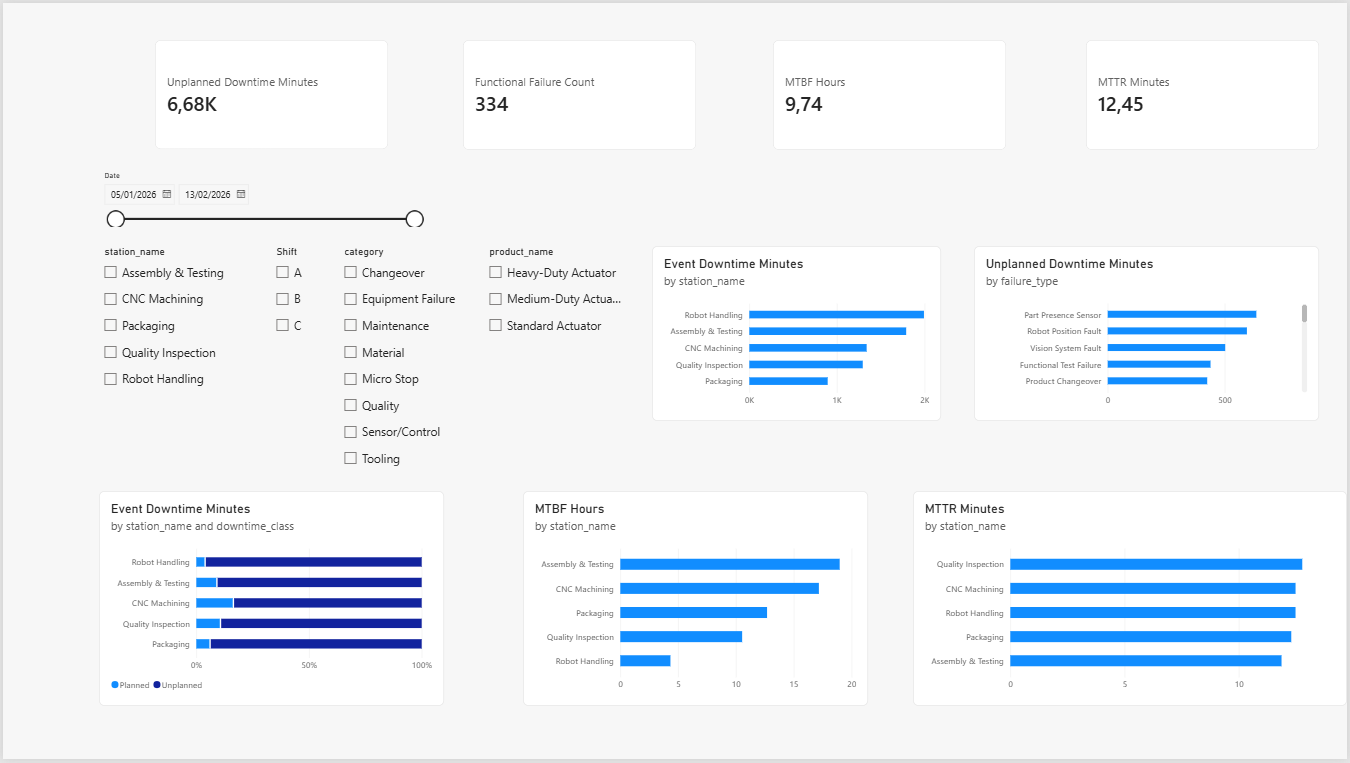

This screenshot's page, from the dashboard's own definition file:
{"tool":"powerbi","page":{"name":"Downtime & Reliability","canvas":[1920,1080],"ordinal":2},"visuals":[{"type":"clusteredBarChart","fields":{"Category":["DimMachine.station_name"],"Y":["FactProduction.Event Downtime Minutes"]},"box":[926.7,346.7,413.3,250],"z":0},{"type":"hundredPercentStackedBarChart","fields":{"Category":["DimMachine.station_name"],"Series":["FactDowntime.downtime_class"],"Y":["FactProduction.Event Downtime Minutes"]},"box":[136.7,696.7,493,307],"z":1000},{"type":"clusteredBarChart","fields":{"Category":["FactDowntime.failure_type"],"Y":["FactProduction.Unplanned Downtime Minutes"]},"box":[1386.7,346.7,493.3,250],"z":2000},{"type":"clusteredBarChart","fields":{"Category":["DimMachine.station_name"],"Y":["FactProduction.MTBF Hours"]},"box":[743.3,696.7,493.3,306.7],"z":3000},{"type":"clusteredBarChart","fields":{"Category":["DimMachine.station_name"],"Y":["FactProduction.MTTR Minutes"]},"box":[1300,696.7,620,306.7],"z":4000},{"type":"cardVisual","fields":{"Data":["FactProduction.Unplanned Downtime Minutes"]},"box":[216.7,53.3,333.3,156.7],"z":5000},{"type":"cardVisual","fields":{"Data":["FactProduction.Functional Failure Count"]},"box":[656.7,53.3,333,157],"z":6000},{"type":"cardVisual","fields":{"Data":["FactProduction.MTBF Hours"]},"box":[1100,53.3,333,157],"z":7000},{"type":"cardVisual","fields":{"Data":["FactProduction.MTTR Minutes"]},"box":[1546.7,53.3,333,157],"z":8000},{"type":"slicer","fields":{"Values":["DimDate.Date"]},"box":[136.7,240,466.7,80],"z":9000},{"type":"slicer","fields":{"Values":["DimMachine.station_name"]},"box":[136.7,346.7,210,223.3],"z":10000},{"type":"slicer","fields":{"Values":["DimShift.Shift"]},"box":[383.3,346.7,96.7,156.7],"z":11000},{"type":"slicer","fields":{"Values":["FactDowntime.category"]},"box":[480,346.7,166.7,350],"z":12000},{"type":"slicer","fields":{"Values":["DimProduct.product_name"]},"box":[686.7,346.7,196.7,156.7],"z":13000}]}

Visuals, with their boxes in screenshot pixels (x1, y1, x2, y2), scaled from the page's 1920x1080 canvas onto the 1350x763 screenshot:
clusteredBarChart - DimMachine.station_name x FactProduction.Event Downtime Minutes: box=[652, 245, 942, 422]
hundredPercentStackedBarChart - DimMachine.station_name x FactDowntime.downtime_class: box=[96, 492, 443, 709]
clusteredBarChart - FactDowntime.failure_type x FactProduction.Unplanned Downtime Minutes: box=[975, 245, 1322, 422]
clusteredBarChart - DimMachine.station_name x FactProduction.MTBF Hours: box=[523, 492, 869, 709]
clusteredBarChart - DimMachine.station_name x FactProduction.MTTR Minutes: box=[914, 492, 1349, 709]
cardVisual - FactProduction.Unplanned Downtime Minutes: box=[152, 38, 387, 148]
cardVisual - FactProduction.Functional Failure Count: box=[462, 38, 696, 149]
cardVisual - FactProduction.MTBF Hours: box=[773, 38, 1008, 149]
cardVisual - FactProduction.MTTR Minutes: box=[1088, 38, 1322, 149]
slicer - DimDate.Date: box=[96, 170, 424, 226]
slicer - DimMachine.station_name: box=[96, 245, 244, 403]
slicer - DimShift.Shift: box=[270, 245, 338, 356]
slicer - FactDowntime.category: box=[338, 245, 455, 492]
slicer - DimProduct.product_name: box=[483, 245, 621, 356]
